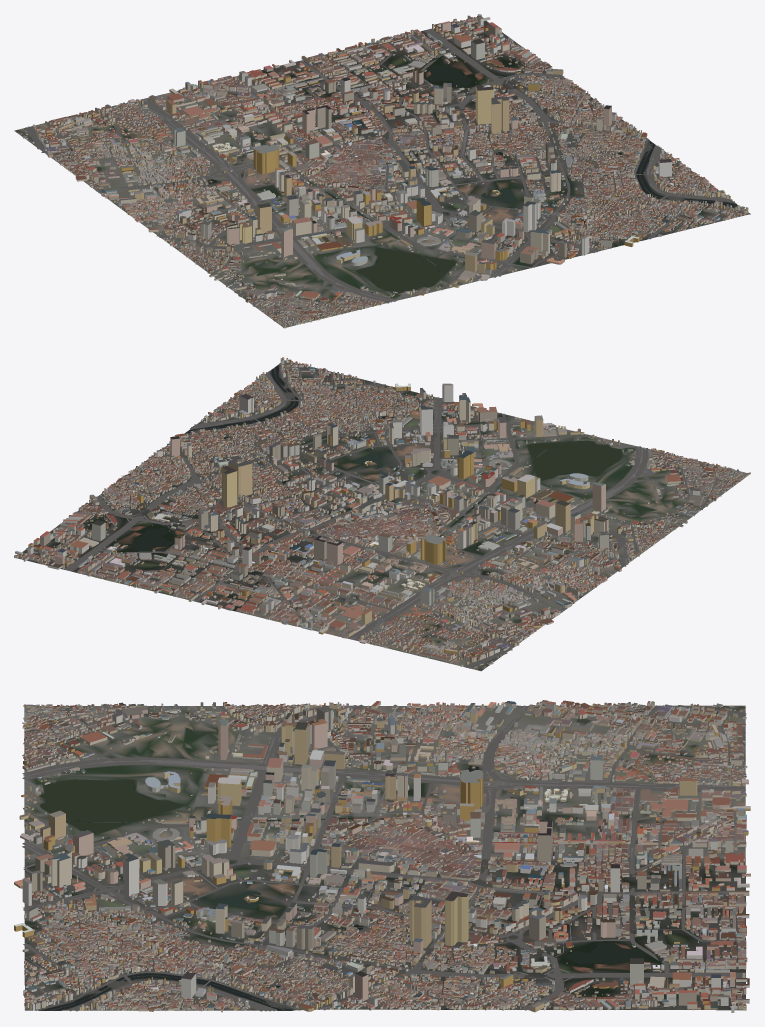
3 renders of one model, top to bottom at view 1: azimuth 30°, elevation 25°; view 2: azimuth 150°, elevation 25°; view 3: azimuth 270°, elevation 25°, orthographic. The views are drawn at different scales.
Parts seen in each view (by area): view 1: buildings, ground, roads, water; view 2: buildings, ground, roads, water; view 3: buildings, ground, roads, water.
Boxes of the visible parts, box(x1,y1,x2,y2) form: buildings: box(19, 14, 748, 328); ground: box(14, 20, 750, 327); roads: box(25, 28, 749, 310); water: box(96, 56, 741, 295); buildings: box(14, 357, 750, 668); ground: box(18, 360, 747, 671); roads: box(37, 360, 717, 668); water: box(96, 365, 622, 622); buildings: box(14, 700, 750, 1012); ground: box(24, 705, 745, 1010); roads: box(22, 704, 746, 1011); water: box(26, 719, 680, 1010).
Bounding box in the file's own units: 2853 × 200 × 2865.
